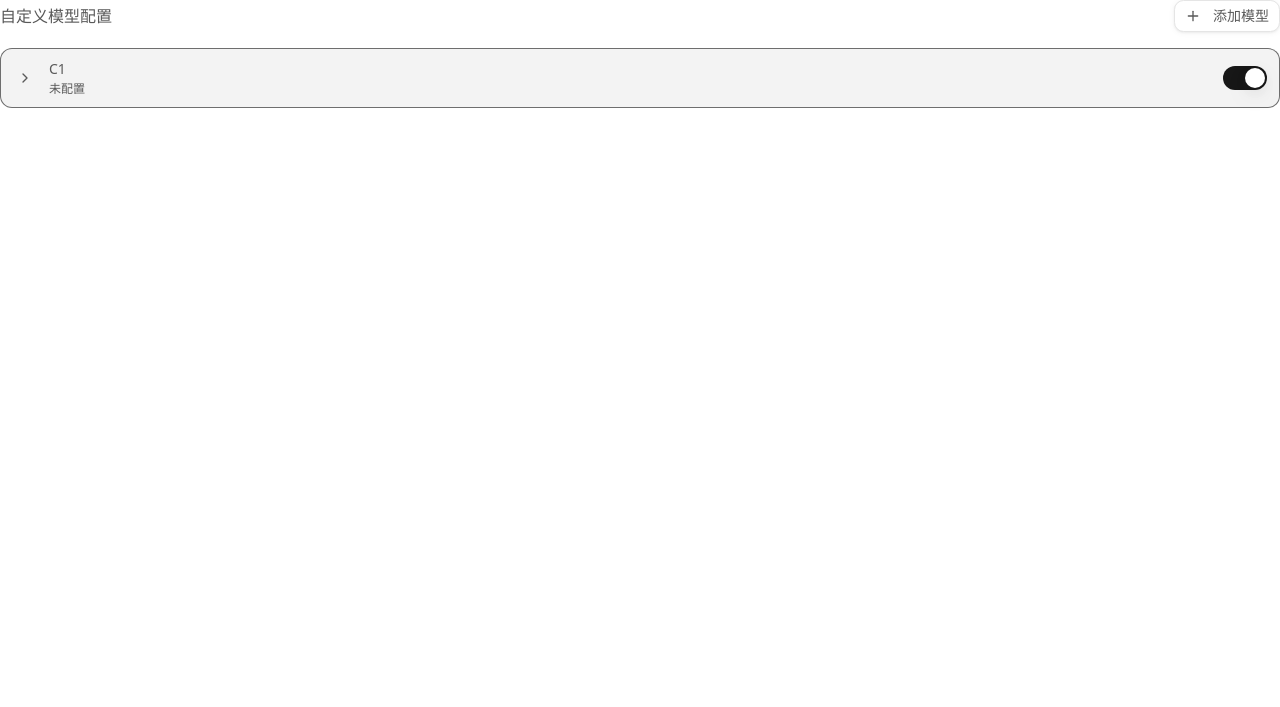
Test: CustomProviderCards › model-list failure with non-Error rejection → String(error) message
Click the button titled "展开配置" at (25, 78), box left=13, top=66, right=37, bottom=90
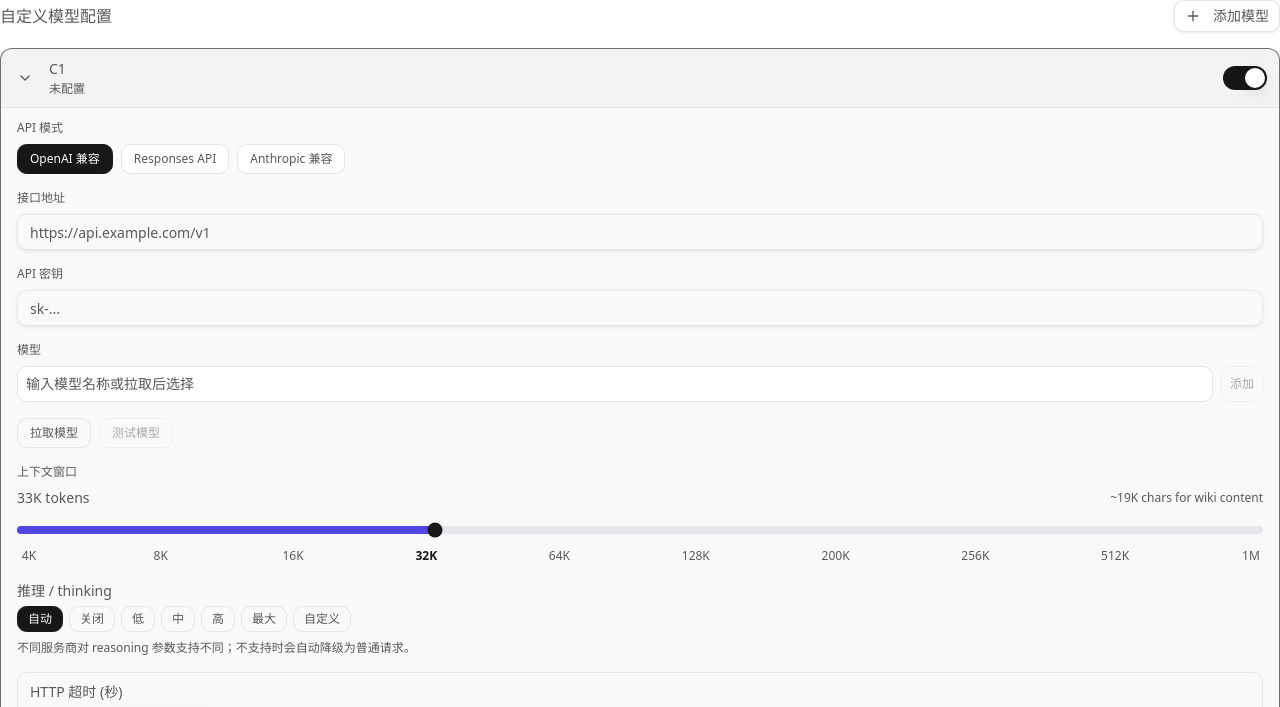
Click the button "拉取模型" at (54, 433), box left=17, top=418, right=91, bottom=448
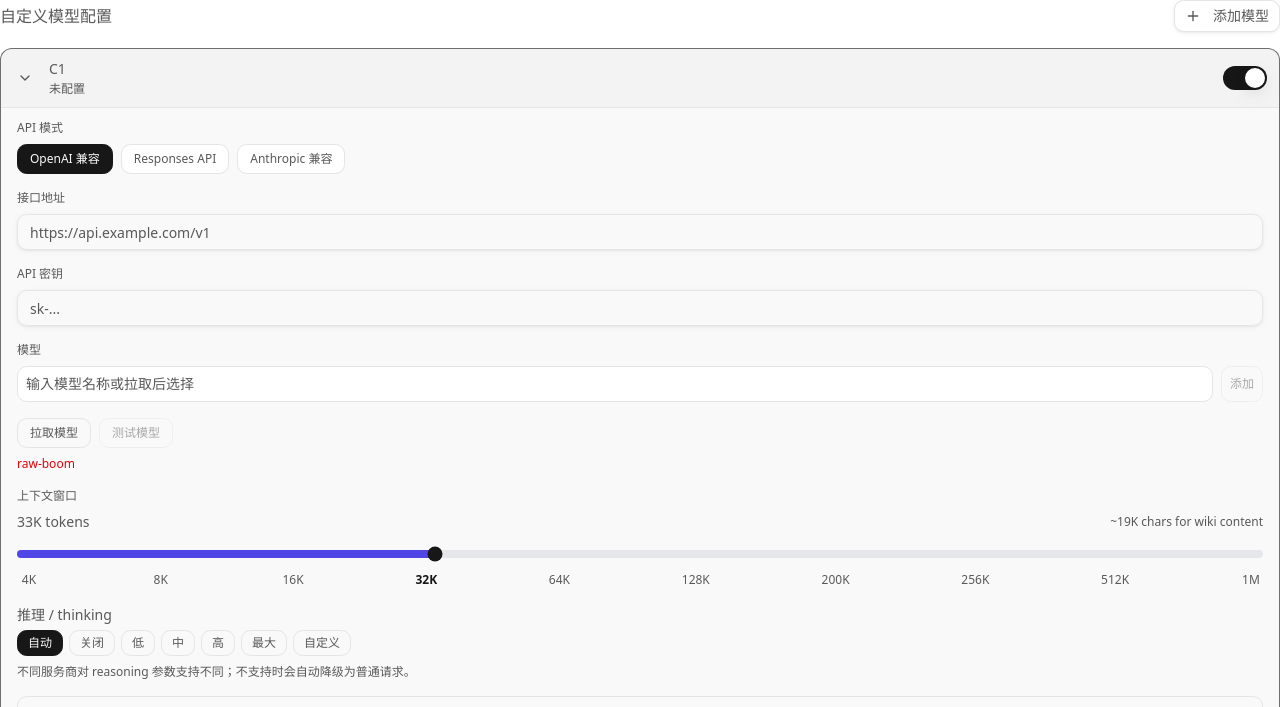
Expected: the text "raw-boom" is shown, left=17, top=455, right=75, bottom=472
